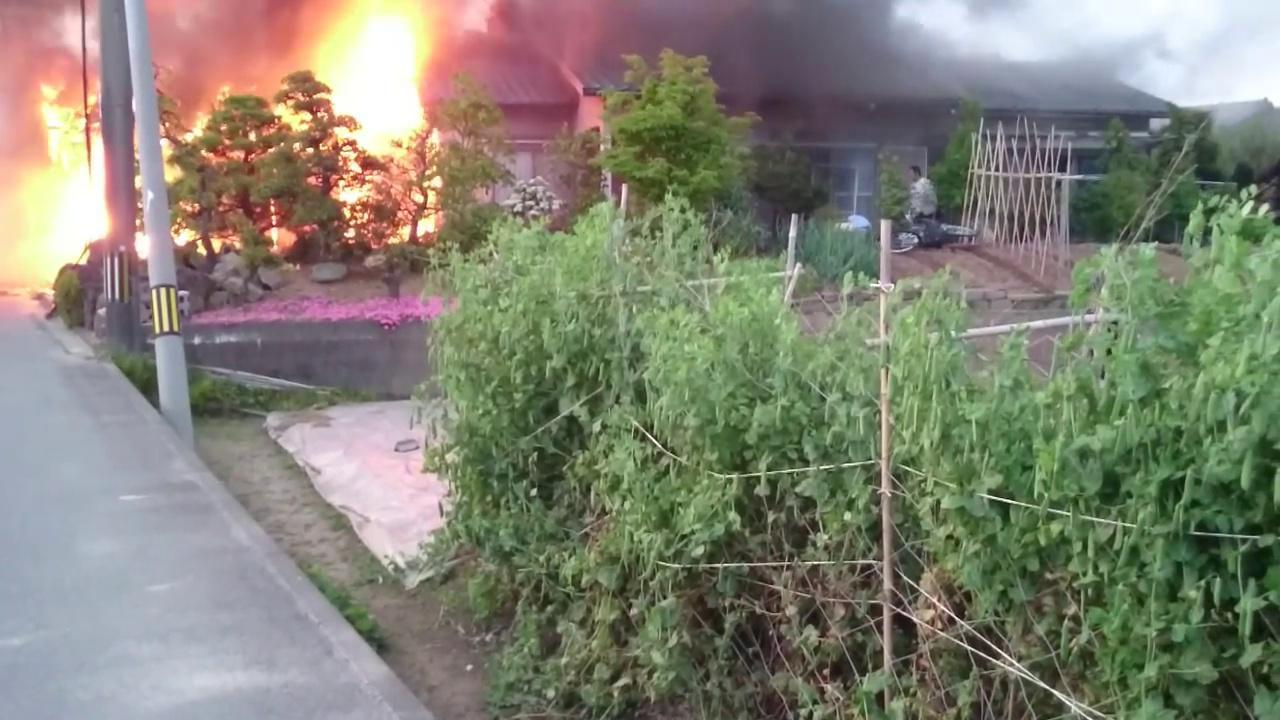Fire: (282, 4, 452, 246), (6, 85, 104, 296)
